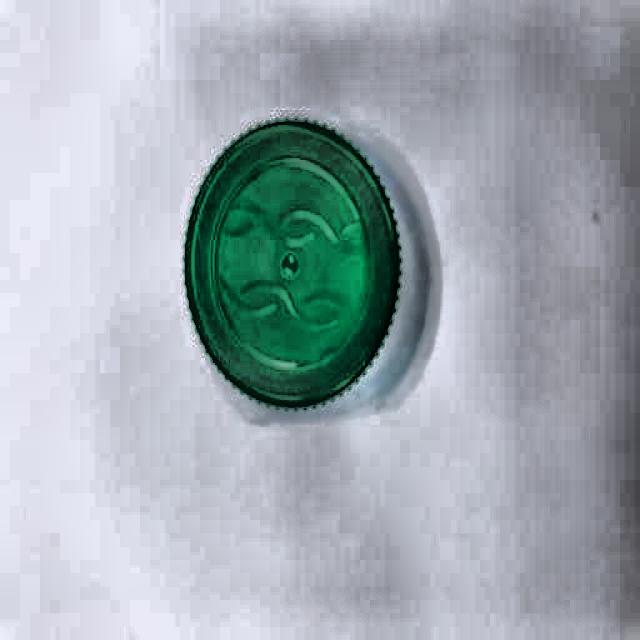plastic: (180, 117, 404, 418)
